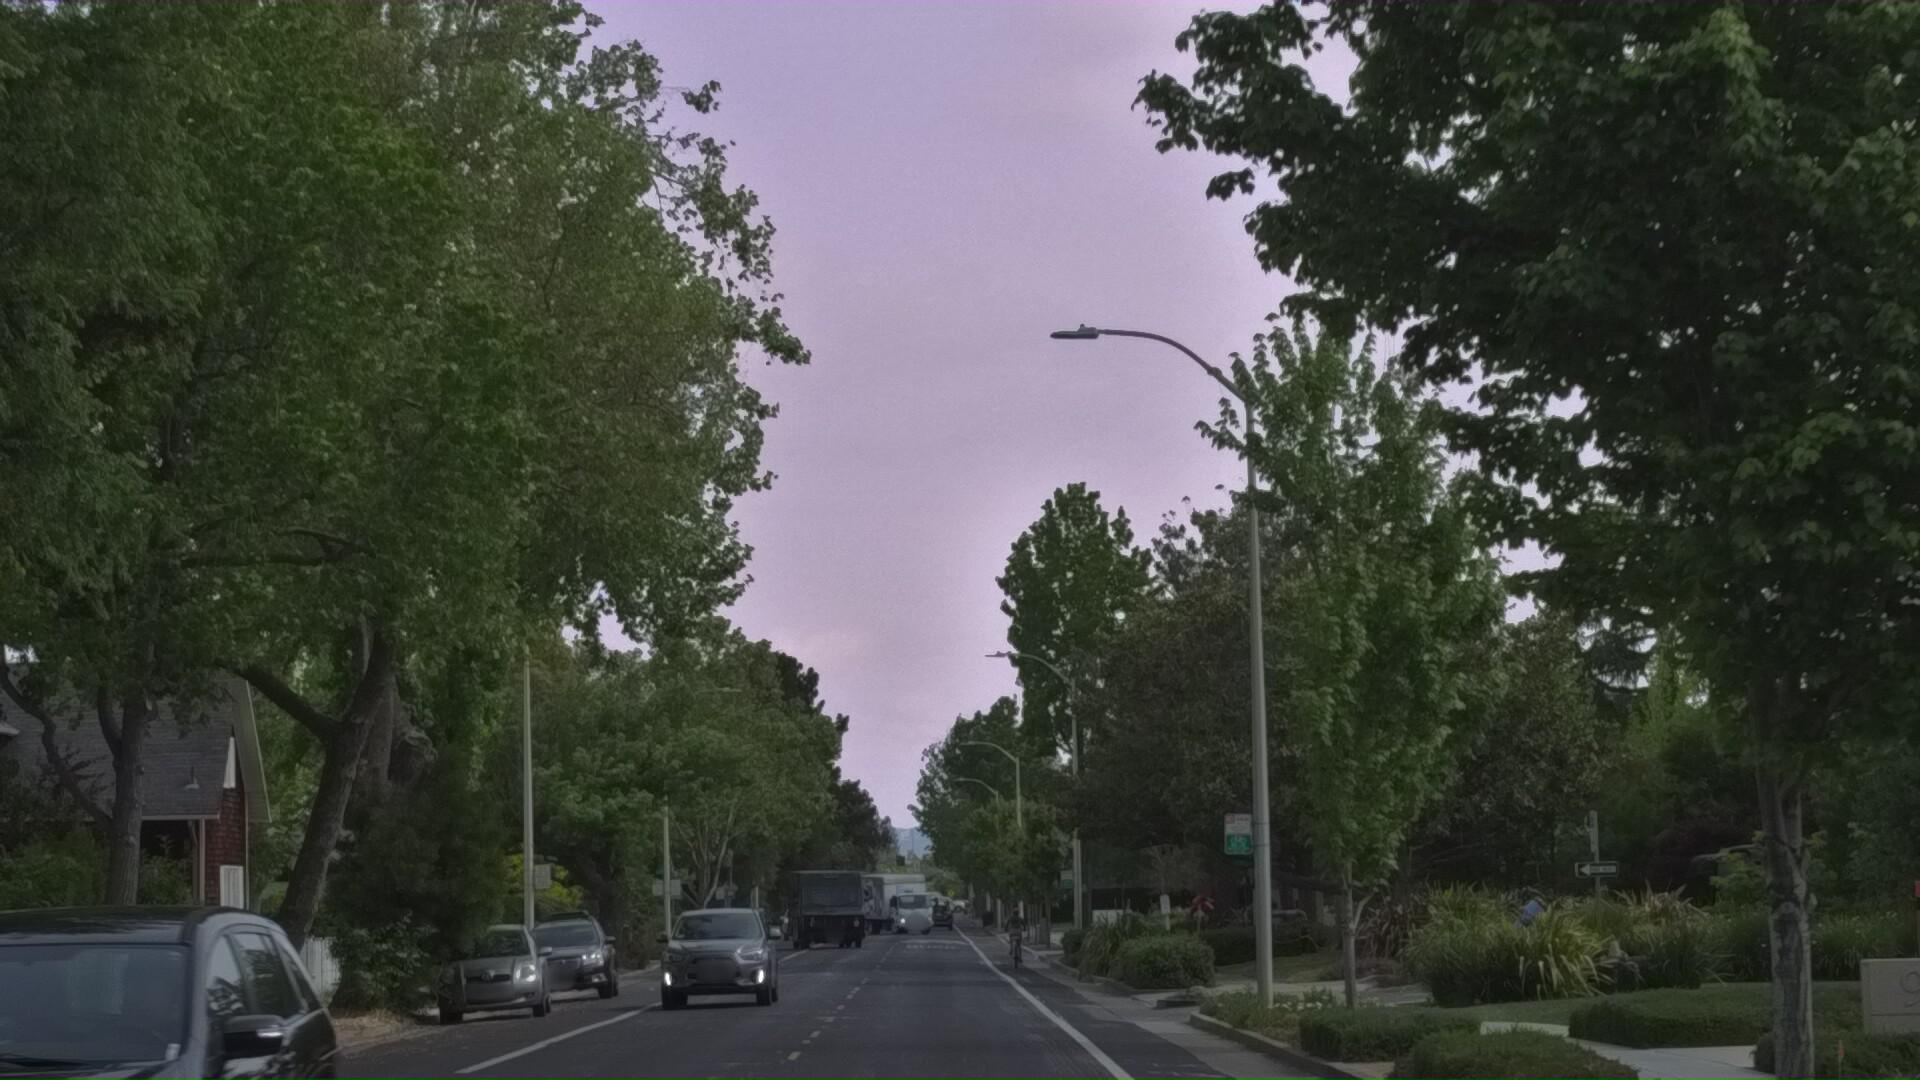car: (0, 948, 342, 1080), (649, 997, 775, 1080), (508, 1001, 636, 1080), (430, 1011, 559, 1080)
